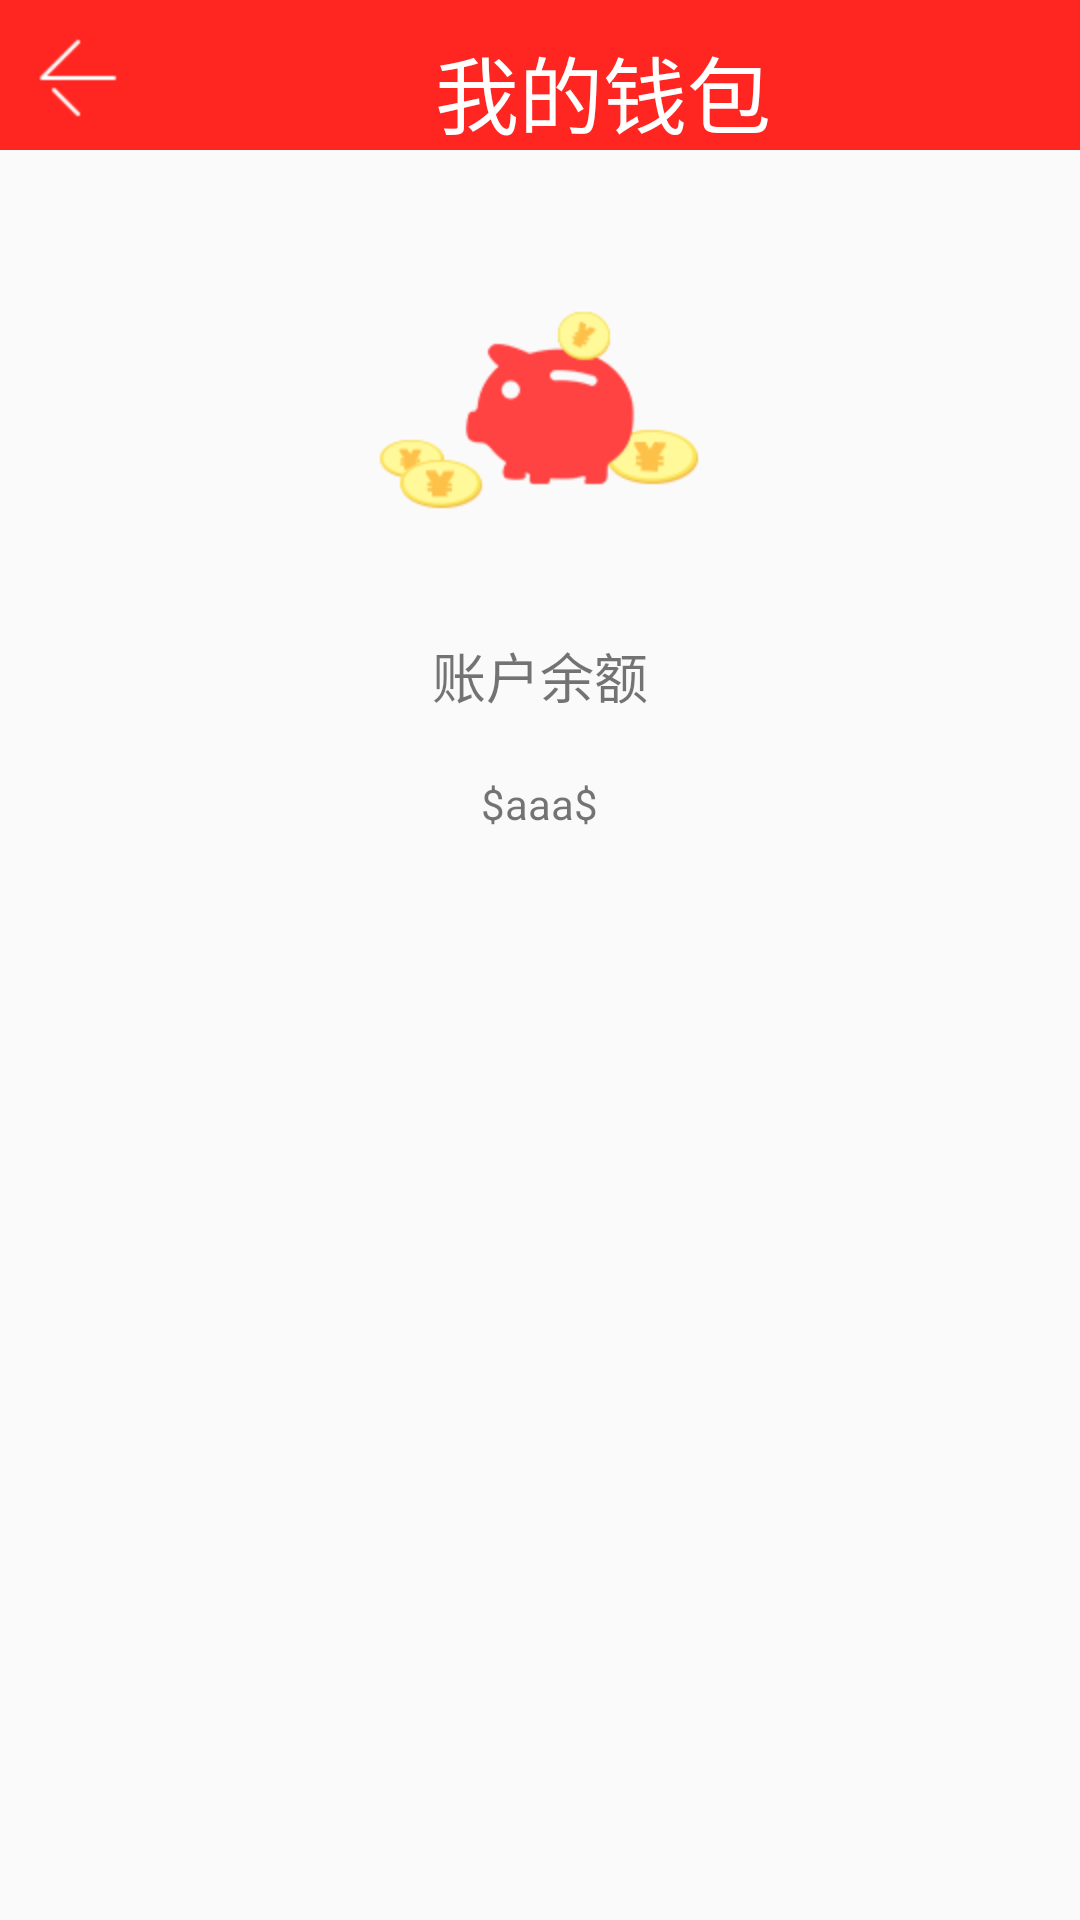

Where to tap for icons on this 1080px x 1920px app screen, as (x,y):
mywallet: (539,410)
